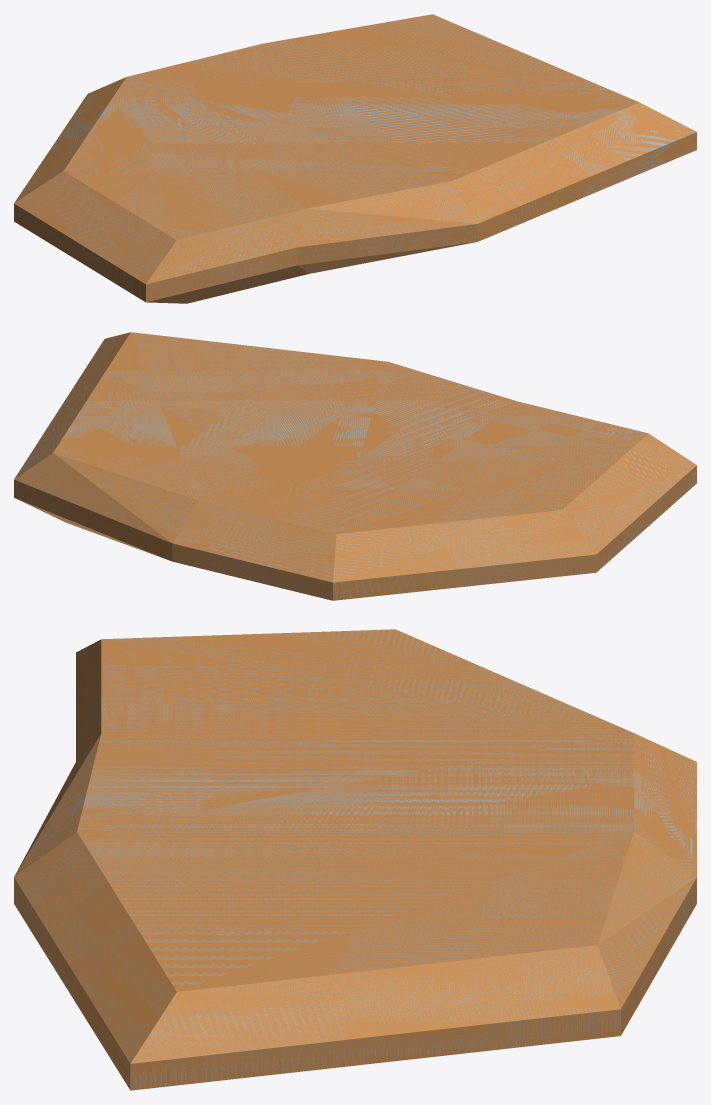
File: Rock_Medium_Flat_Dirt_03.fbx
3 views of the same model, one above another, from view 1: azimuth 30°, elevation 25°; view 2: azimuth 150°, elevation 25°; view 3: azimuth 270°, elevation 25° (orthographic). The views are drawn at different scales.
Visible parts, largest first — view 1: Model; view 2: Model; view 3: Model.
Boxes of the visible parts, bbox=[...] form: Model: bbox=[14, 14, 696, 303]; Model: bbox=[14, 332, 696, 600]; Model: bbox=[14, 629, 696, 1090].
Bounding box in the file's own units: 321 × 36 × 219.
